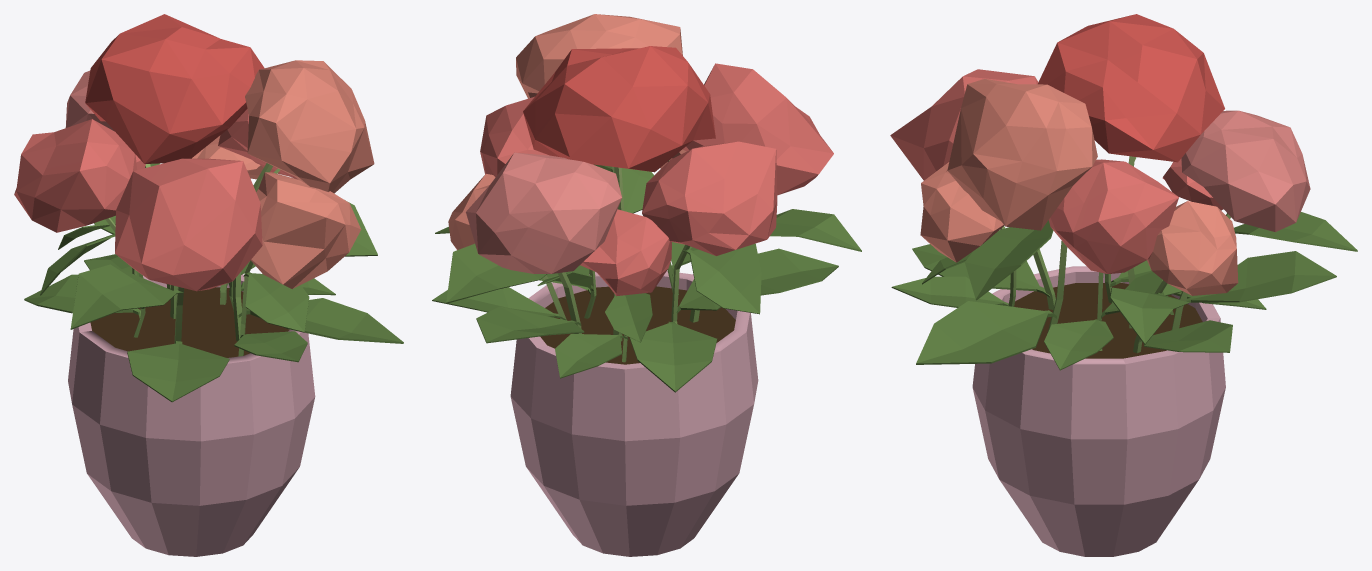
Rendered from Plant_19.fbx.
3 renders of one model, left to right at view 1: azimuth 30°, elevation 25°; view 2: azimuth 150°, elevation 25°; view 3: azimuth 270°, elevation 25°, orthographic.
Parts seen in each view (by area): view 1: Plant_19; view 2: Plant_19; view 3: Plant_19.
Part boxes in pixels (box(x1,y1,x2,y2)): Plant_19: box(14, 14, 403, 556); Plant_19: box(432, 14, 861, 556); Plant_19: box(890, 14, 1357, 556).
Bounding box in the file's own units: 32.21 × 43.25 × 36.72.
